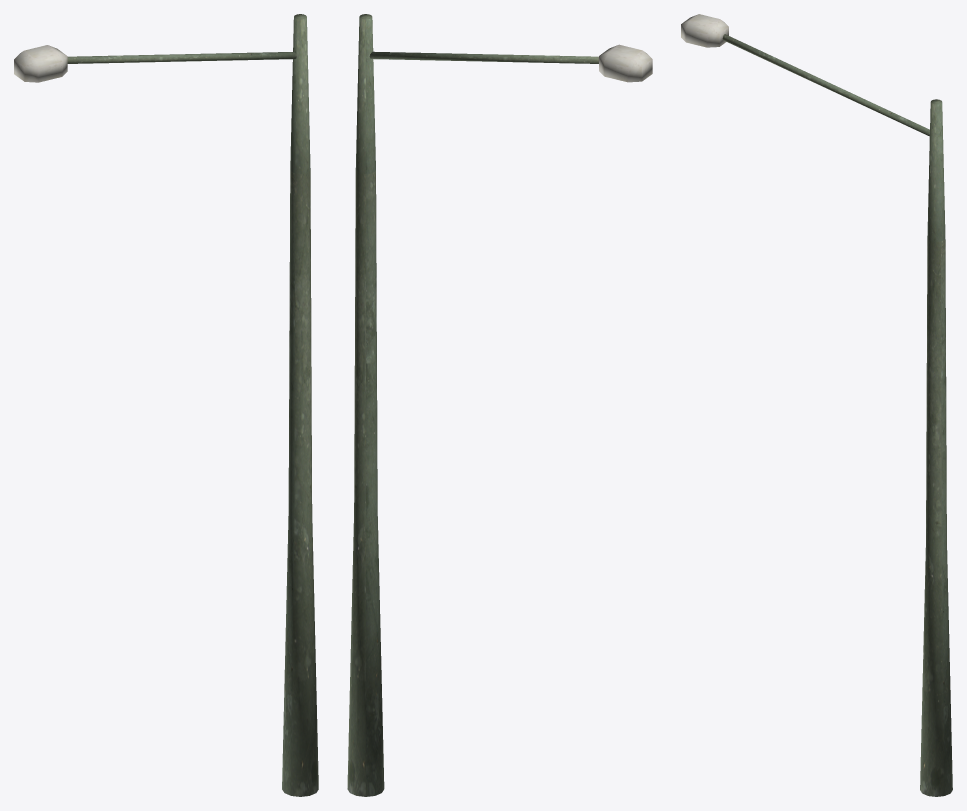
File: bridge1_streetlights_joined.fbx
3 views of the same model, side by side, from view 1: azimuth 30°, elevation 25°; view 2: azimuth 150°, elevation 25°; view 3: azimuth 330°, elevation 25° (orthographic). The views are drawn at different scales.
Visible parts, largest first — view 1: farolaUnida; view 2: farolaUnida; view 3: farolaUnida.
Part boxes in pixels (bbox=[...]): farolaUnida: bbox=[14, 14, 318, 796]; farolaUnida: bbox=[347, 14, 652, 796]; farolaUnida: bbox=[681, 14, 952, 796].
Bounding box in the file's own units: 1.86 × 4.8 × 0.2064.
